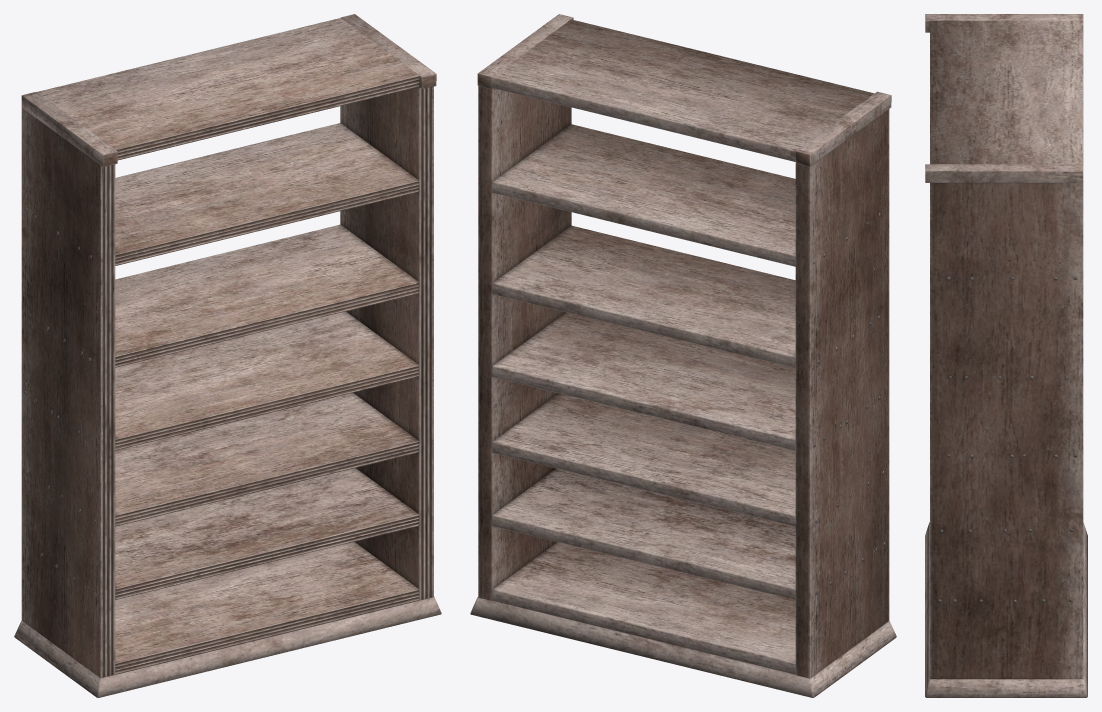
The model's file is wooden_bookshelf_worn.fbx.
The picture shows the model from 3 angles, left to right: view 1: azimuth 30°, elevation 25°; view 2: azimuth 150°, elevation 25°; view 3: azimuth 270°, elevation 25°; orthographic projection. The views are drawn at different scales.
Parts seen in each view (by area): view 1: wooden_bookshelf_worn_LOD0; view 2: wooden_bookshelf_worn_LOD0; view 3: wooden_bookshelf_worn_LOD0.
Boxes of the visible parts, box(x1,y1,x2,y2) form: wooden_bookshelf_worn_LOD0: box(14, 14, 441, 697); wooden_bookshelf_worn_LOD0: box(470, 14, 896, 697); wooden_bookshelf_worn_LOD0: box(925, 14, 1087, 697).
Size of what is drawn, in the model's own units: 137 by 206 by 58.13.
1 material, 1 textured.
